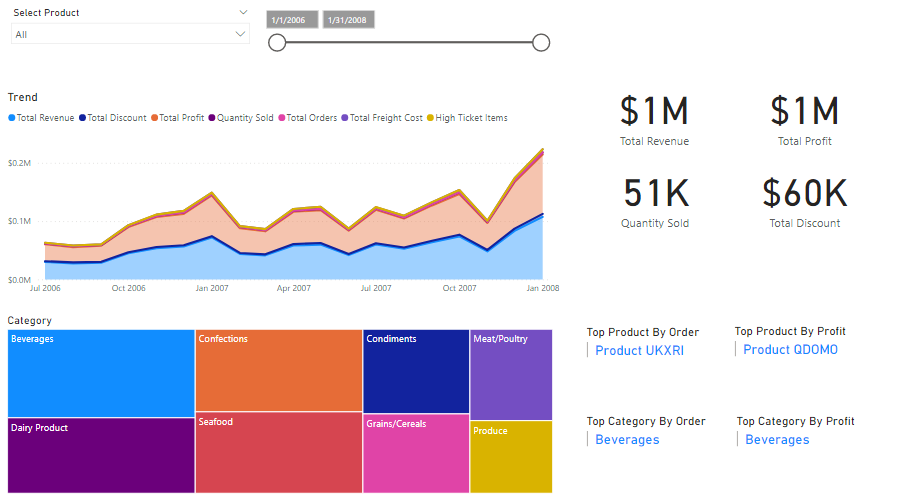

Layout of this report page (visuals, bound fields, positions):
{"tool":"powerbi","page":{"name":"Product details","canvas":[1280,720],"ordinal":1},"visuals":[{"type":"treemap","title":"Category","fields":{"Group":["Category.categoryname"],"Values":["Sales Order.Total Orders"]},"box":[8.5,445.6,780.8,260.3],"z":0},{"type":"stackedAreaChart","title":"Trend","fields":{"Category":["Calender.Start of Month"],"Y":["Order Detail.Total Revenue","Order Detail.Total Discount","Sales Order.Total Profit","Order Detail.Quantity Sold","Sales Order.Total Orders","Sales Order.Total Freight Cost","Product.High Ticket Items"]},"box":[8.5,130.1,790.7,298.5],"z":1000},{"type":"slicer","title":"Category By Orders","fields":{"Values":["Product.productname"]},"box":[8.5,7.1,357.9,77.8],"z":2000},{"type":"slicer","fields":{"Values":["Calender.Date"]},"box":[366.4,7.1,422.9,77.8],"z":3000},{"type":"card","fields":{"Values":["Order Detail.Total Revenue"]},"box":[824.7,110.3,207.9,104.7],"z":4000},{"type":"card","fields":{"Values":["Sales Order.Total Profit"]},"box":[1045.3,110.3,192.4,104.7],"z":5000},{"type":"card","fields":{"Values":["Order Detail.Quantity Sold"]},"box":[826.1,227.7,206.5,103.3],"z":6000},{"type":"card","fields":{"Values":["Order Detail.Total Discount"]},"box":[1045.3,227.7,192.4,103.3],"z":7000},{"type":"multiRowCard","title":"Top Product By Order","fields":{"Values":["Min(Product.productname)"]},"box":[827.5,462.6,210.8,73.6],"z":8000},{"type":"multiRowCard","title":"Top Product By Profit","fields":{"Values":["Min(Product.productname)"]},"box":[1036.9,461.1,209.4,75],"z":9000},{"type":"multiRowCard","title":"Top Category By Order","fields":{"Values":["Min(Category.categoryname)"]},"box":[827.5,588.4,209.4,73.6],"z":10000},{"type":"multiRowCard","title":"Top Category By Profit","fields":{"Values":["Min(Category.categoryname)"]},"box":[1039.7,588.4,209.4,73.6],"z":11000}]}

Visuals, with their boxes in screenshot pixels (x1, y1, x2, y2), scaled from the page's 1280x720 canvas onto the 900x500 screenshot:
"Category" treemap: {"x1": 6, "y1": 309, "x2": 555, "y2": 490}
"Trend" stackedAreaChart: {"x1": 6, "y1": 90, "x2": 562, "y2": 298}
"Category By Orders" slicer: {"x1": 6, "y1": 5, "x2": 258, "y2": 59}
slicer - Calender.Date: {"x1": 258, "y1": 5, "x2": 555, "y2": 59}
card - Order Detail.Total Revenue: {"x1": 580, "y1": 77, "x2": 726, "y2": 149}
card - Sales Order.Total Profit: {"x1": 735, "y1": 77, "x2": 870, "y2": 149}
card - Order Detail.Quantity Sold: {"x1": 581, "y1": 158, "x2": 726, "y2": 230}
card - Order Detail.Total Discount: {"x1": 735, "y1": 158, "x2": 870, "y2": 230}
"Top Product By Order" multiRowCard: {"x1": 582, "y1": 321, "x2": 730, "y2": 372}
"Top Product By Profit" multiRowCard: {"x1": 729, "y1": 320, "x2": 876, "y2": 372}
"Top Category By Order" multiRowCard: {"x1": 582, "y1": 409, "x2": 729, "y2": 460}
"Top Category By Profit" multiRowCard: {"x1": 731, "y1": 409, "x2": 878, "y2": 460}
